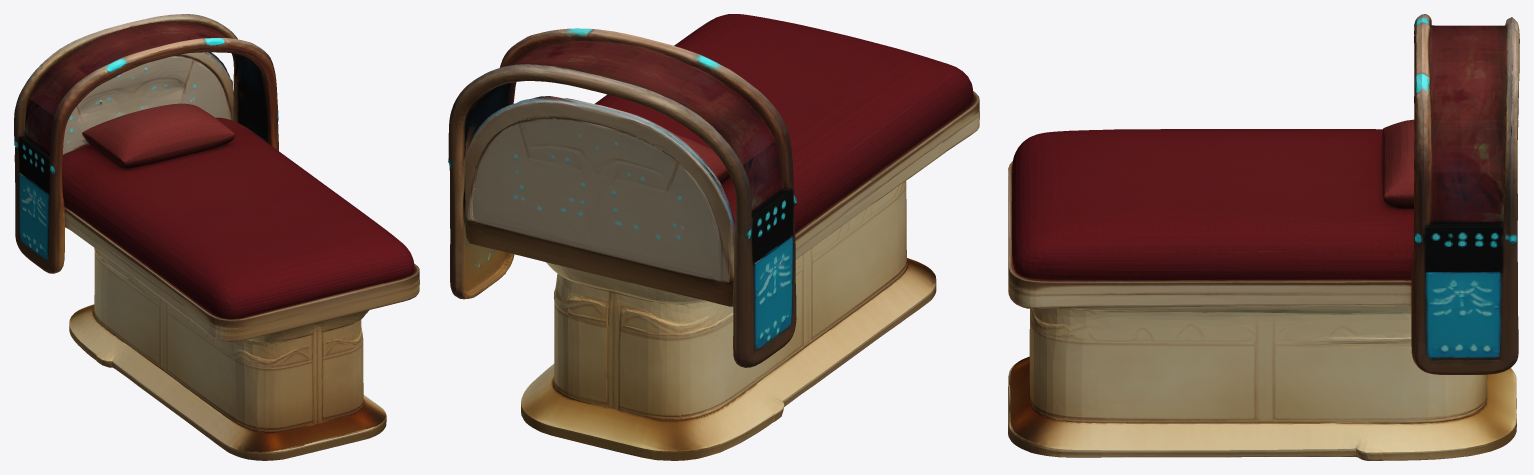
File: biobed.glb
The picture shows the model from 3 angles, left to right: view 1: azimuth 30°, elevation 25°; view 2: azimuth 150°, elevation 25°; view 3: azimuth 270°, elevation 25°; orthographic projection. The views are drawn at different scales.
Visible parts, largest first — view 1: world; view 2: world; view 3: world.
Boxes of the visible parts, box(x1,y1,x2,y2) form: world: box(14, 14, 419, 460); world: box(448, 14, 979, 460); world: box(1008, 14, 1519, 460).
Bounding box in the file's own units: 0.6623 × 0.7827 × 0.9936.
Materials: 1 (1 with a texture image).
